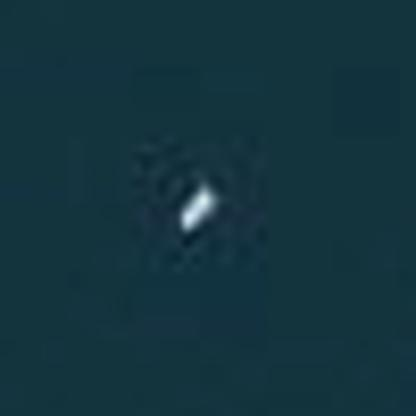ship: (172, 171, 220, 244)
